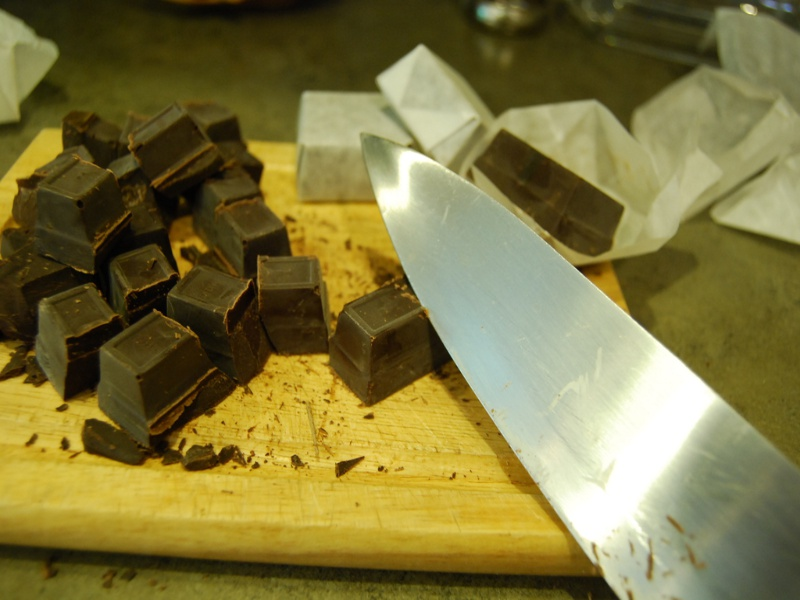knife: (355, 129, 798, 600)
